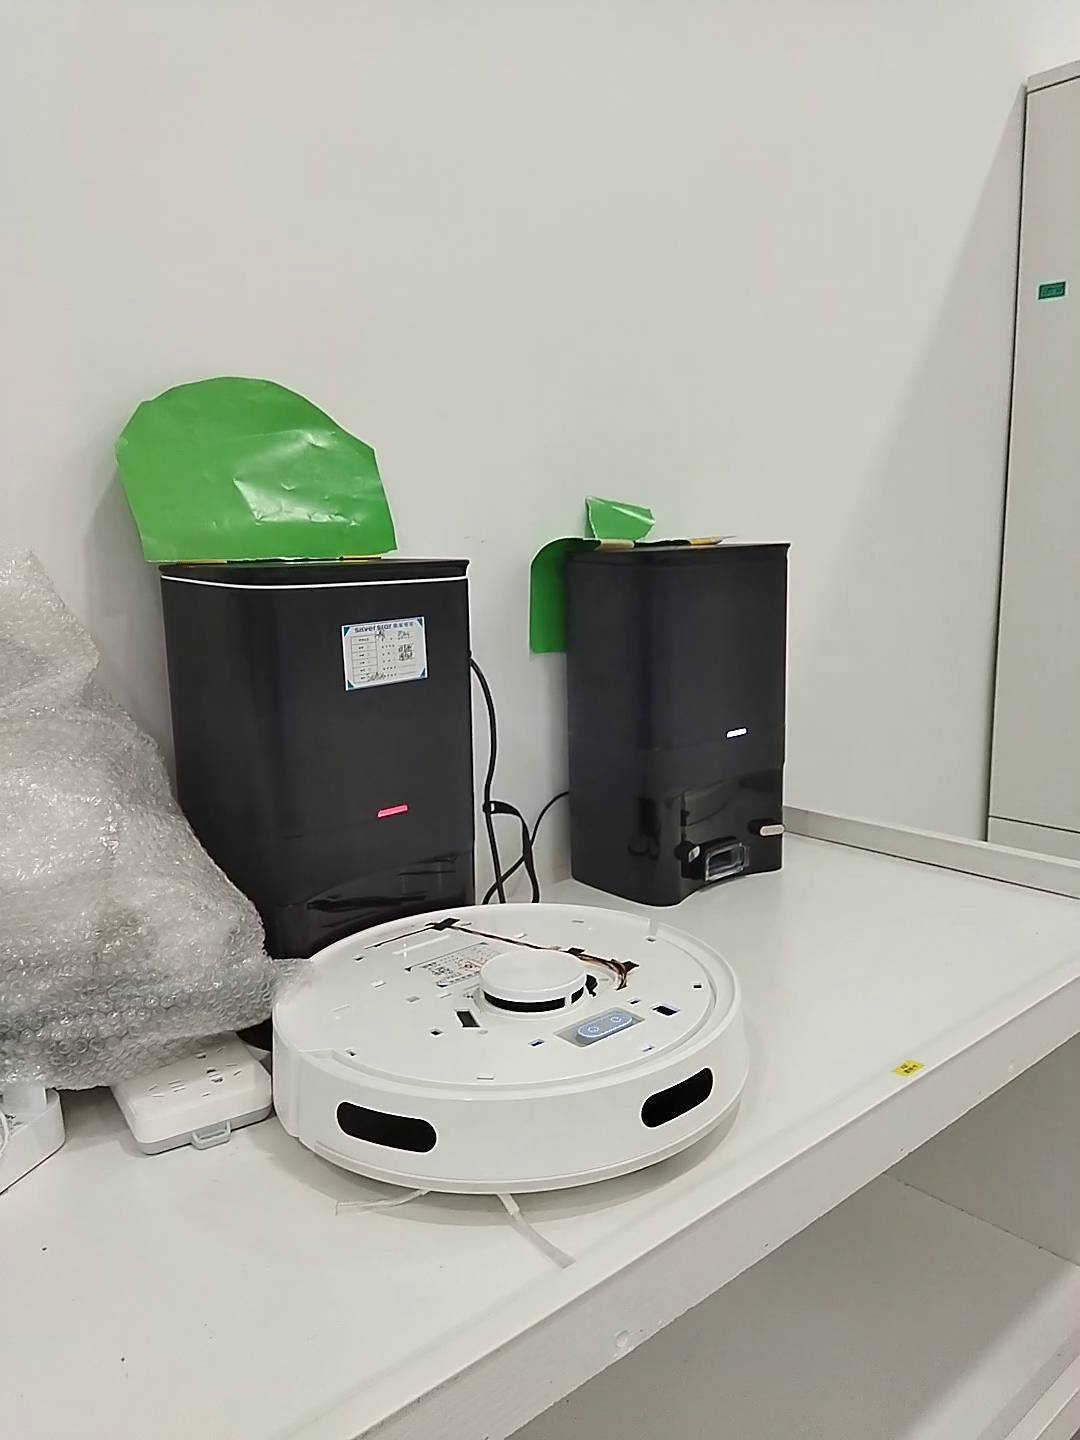dust collecting barrel: (159, 558, 476, 957), (564, 543, 795, 907)
